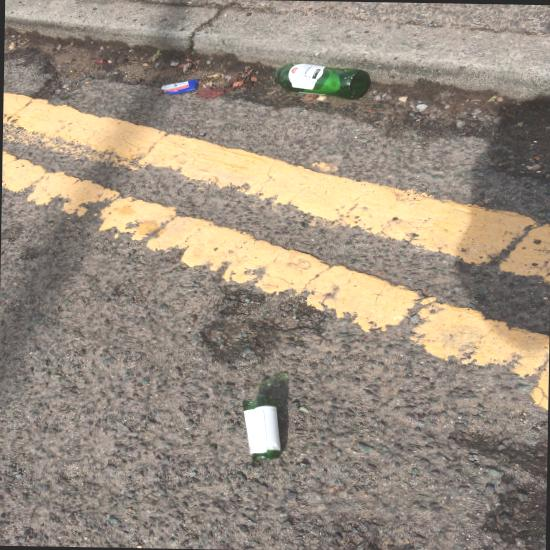Other plastic container: (396, 20, 498, 87)
Plastic bottle cap: (481, 76, 498, 87)
Squeezable tube: (2, 136, 51, 171)
Unlabeled litter: (261, 122, 357, 163), (318, 128, 361, 159), (443, 16, 488, 38), (301, 112, 314, 122), (233, 269, 246, 278)
